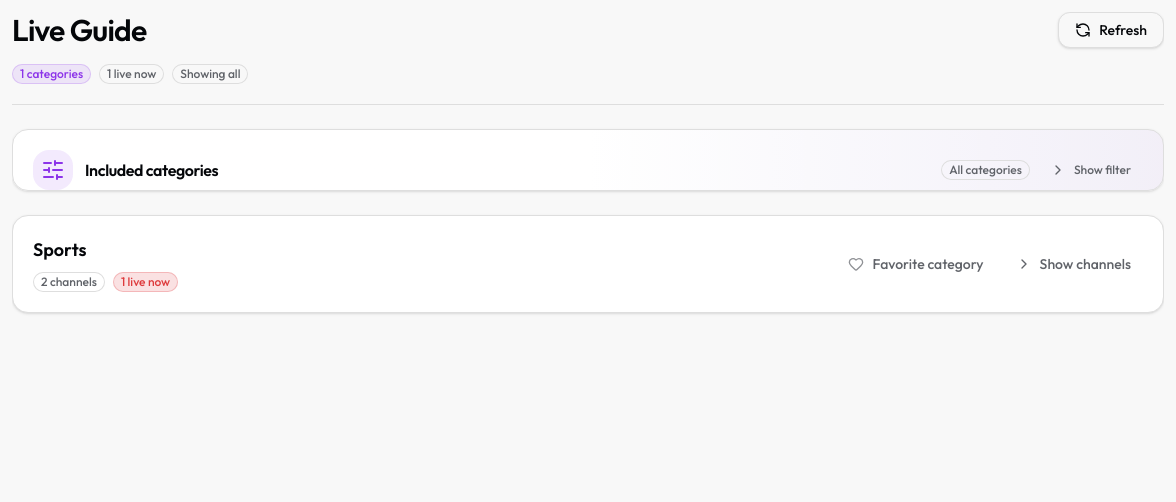
Scenario: GuidePage › shows channels even when a category entry has no program metadata
Click the button "Show channels" at x=1073, y=264, box x1=1004 y1=246 x2=1143 y2=282
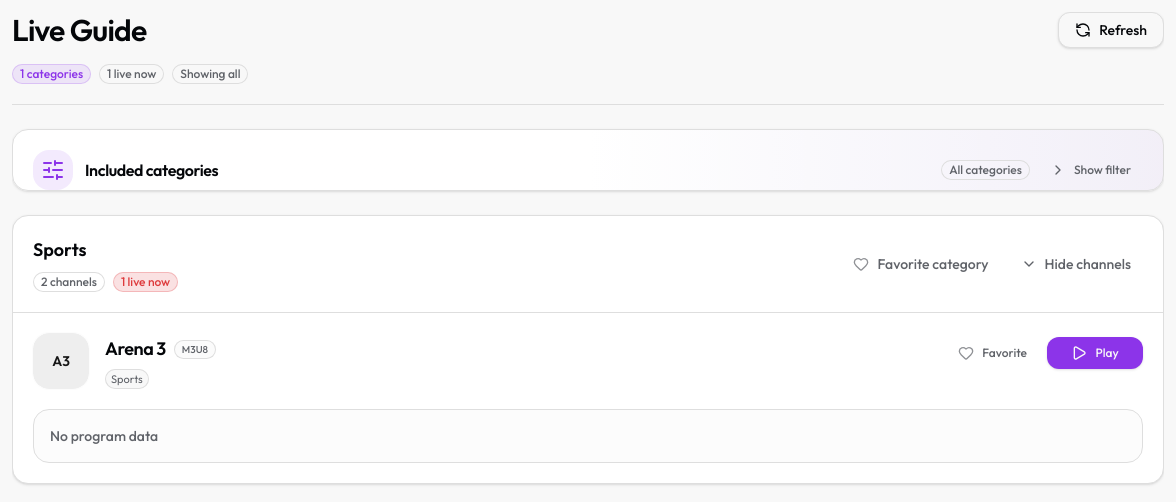
Expected: the heading "Arena 3" is shown, x1=105 y1=335 x2=166 y2=363
Expected: the text "No program data" is shown, x1=50 y1=427 x2=158 y2=445
